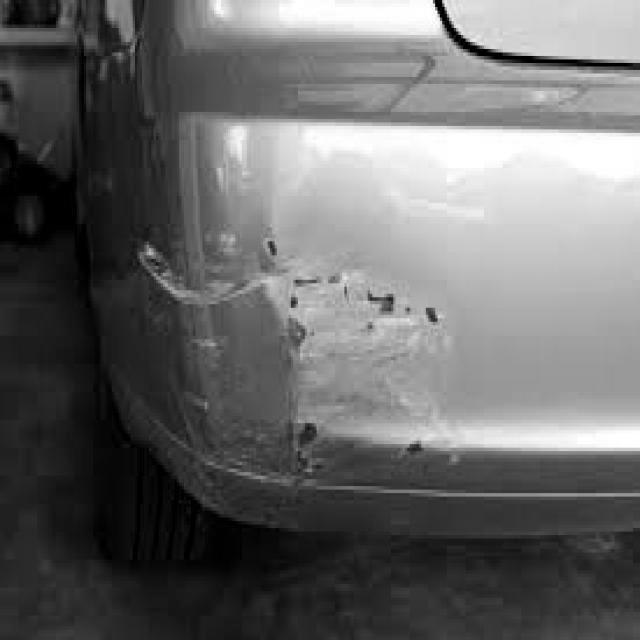rear-bumper-dent: (136, 234, 485, 500)
